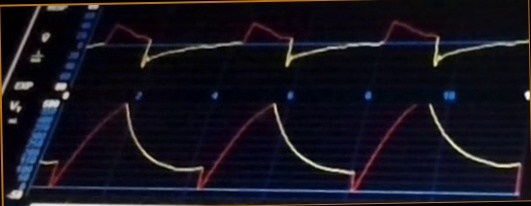Flow: (88, 11, 528, 77)
Leakage Volume: (40, 101, 521, 200)
